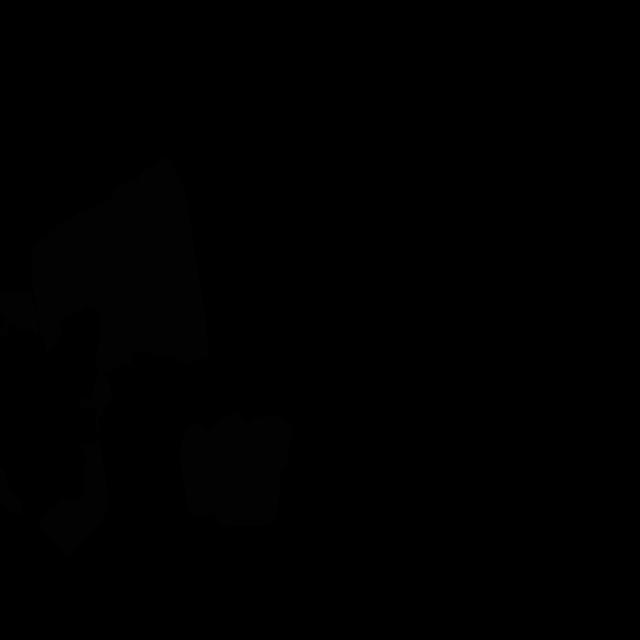cardboard: (31, 156, 209, 431), (180, 412, 292, 528), (38, 436, 110, 557), (0, 289, 39, 340), (0, 467, 22, 515)
